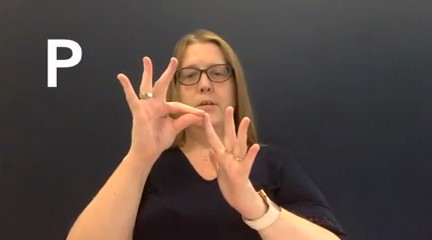P: (110, 54, 270, 216)
